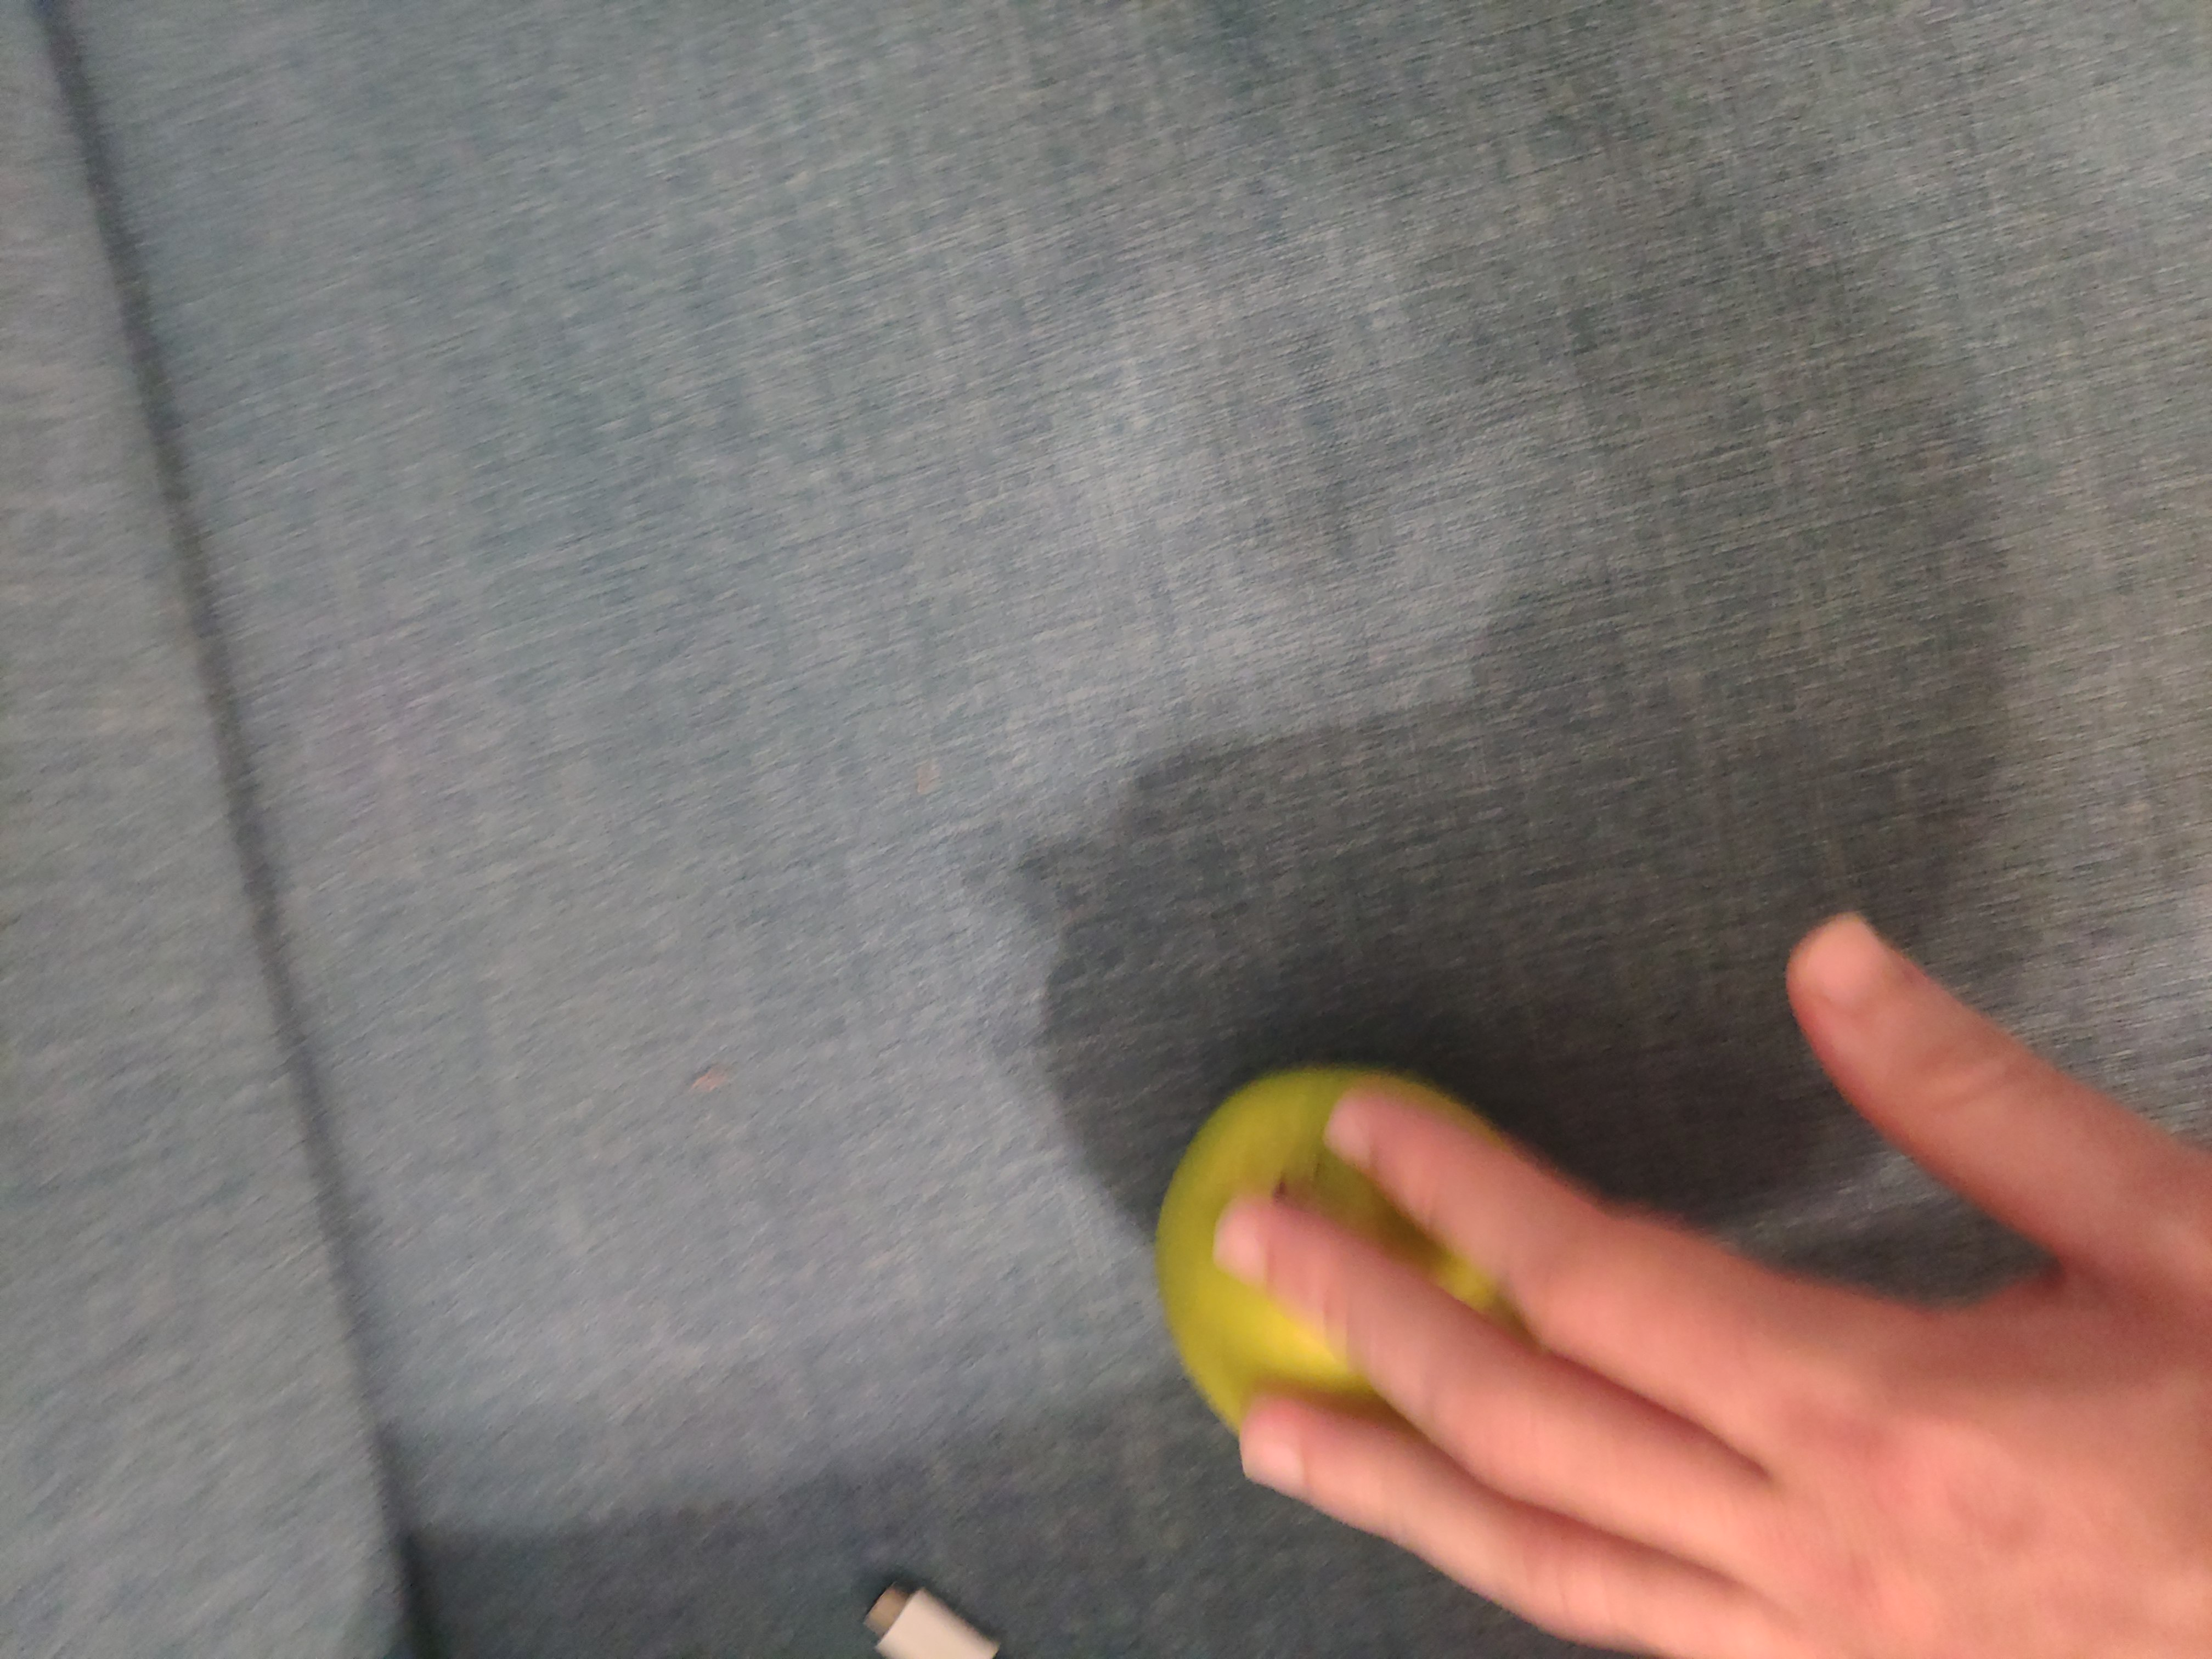apple: (1064, 1030, 1618, 1446)
